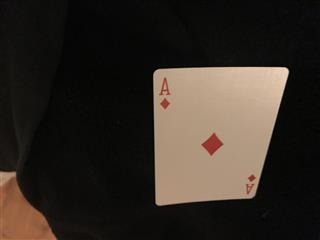AceOfDiamonds: (153, 67, 289, 205)
